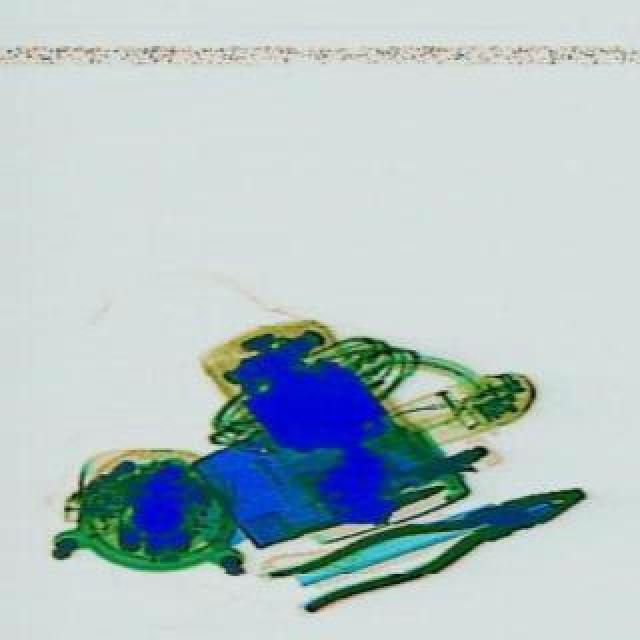wrench: (266, 462, 594, 622)
